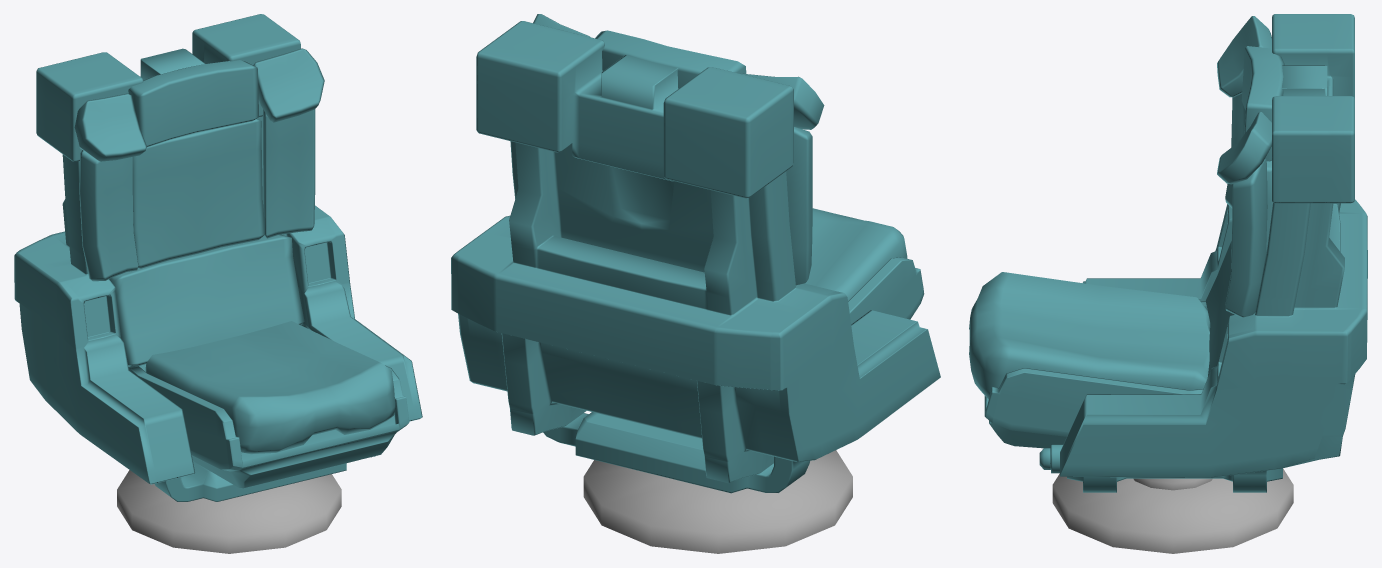
File: chair.fbx
The picture shows the model from 3 angles, left to right: view 1: azimuth 30°, elevation 25°; view 2: azimuth 150°, elevation 25°; view 3: azimuth 270°, elevation 25°; orthographic projection. The views are drawn at different scales.
Visible parts, largest first — view 1: Chair__Pillow_Top_low; view 2: Chair__Pillow_Top_low; view 3: Chair__Pillow_Top_low.
Boxes of the visible parts, <box> form: Chair__Pillow_Top_low: <box>14,14,422,553</box>; Chair__Pillow_Top_low: <box>451,14,940,553</box>; Chair__Pillow_Top_low: <box>969,14,1367,553</box>.
Size of the model in its own units: 110 by 154 by 129.
